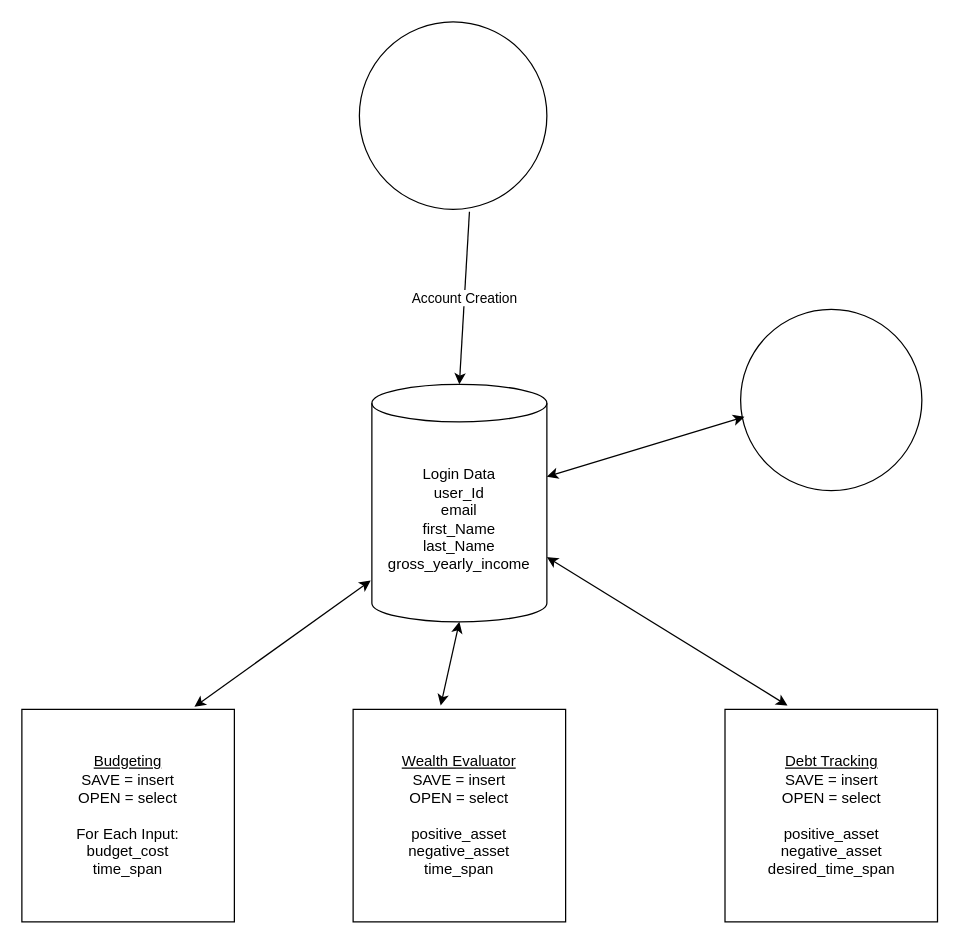
This 960x944 diagram has some shape labels left out. Each missing label, with the centre of its shape:
Goal user_statement: (x=830, y=399)
User: (x=452, y=115)
